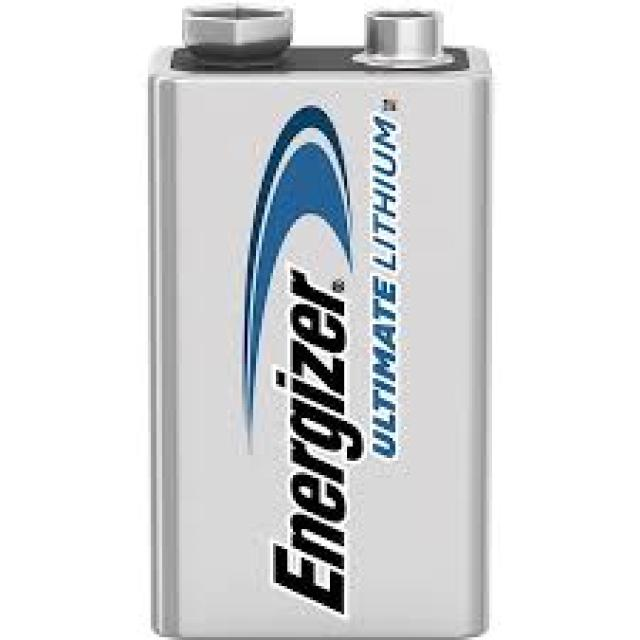Battery: (151, 6, 484, 629)
